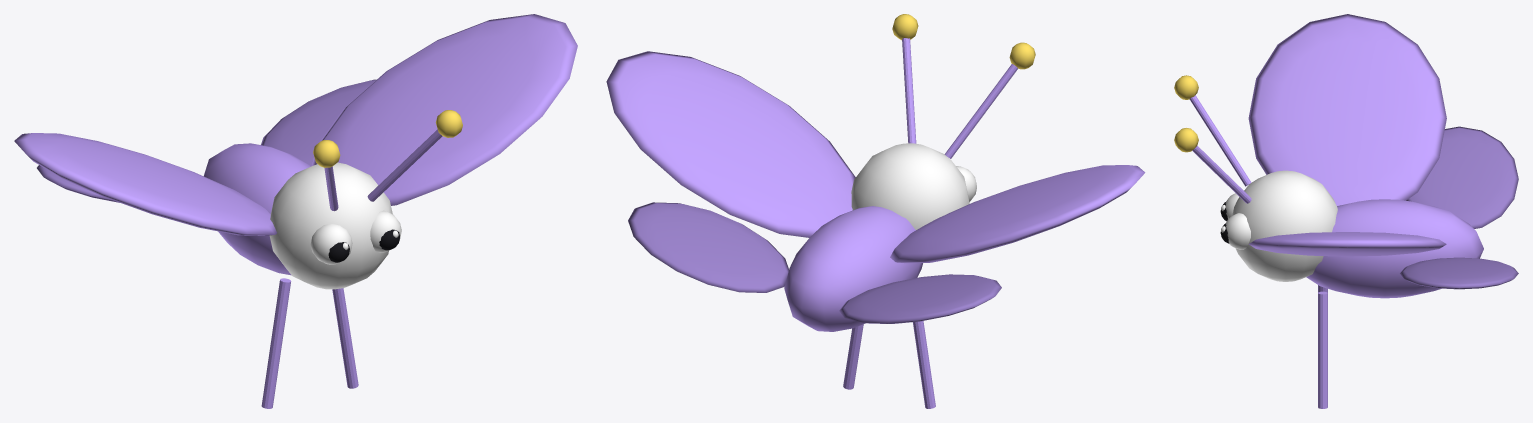
3 views of the same model, side by side, from view 1: azimuth 30°, elevation 25°; view 2: azimuth 150°, elevation 25°; view 3: azimuth 270°, elevation 25° (orthographic). The views are drawn at different scales.
Visible parts, largest first — view 1: Glow Moth; view 2: Glow Moth; view 3: Glow Moth.
Boxes of the visible parts, x1,y1,x2,y2 form: Glow Moth: (14,14,577,408); Glow Moth: (606,14,1145,408); Glow Moth: (1174,14,1518,408).
Bounding box in the file's own units: 4.39 × 2.56 × 2.78.
1 material, 1 textured.
